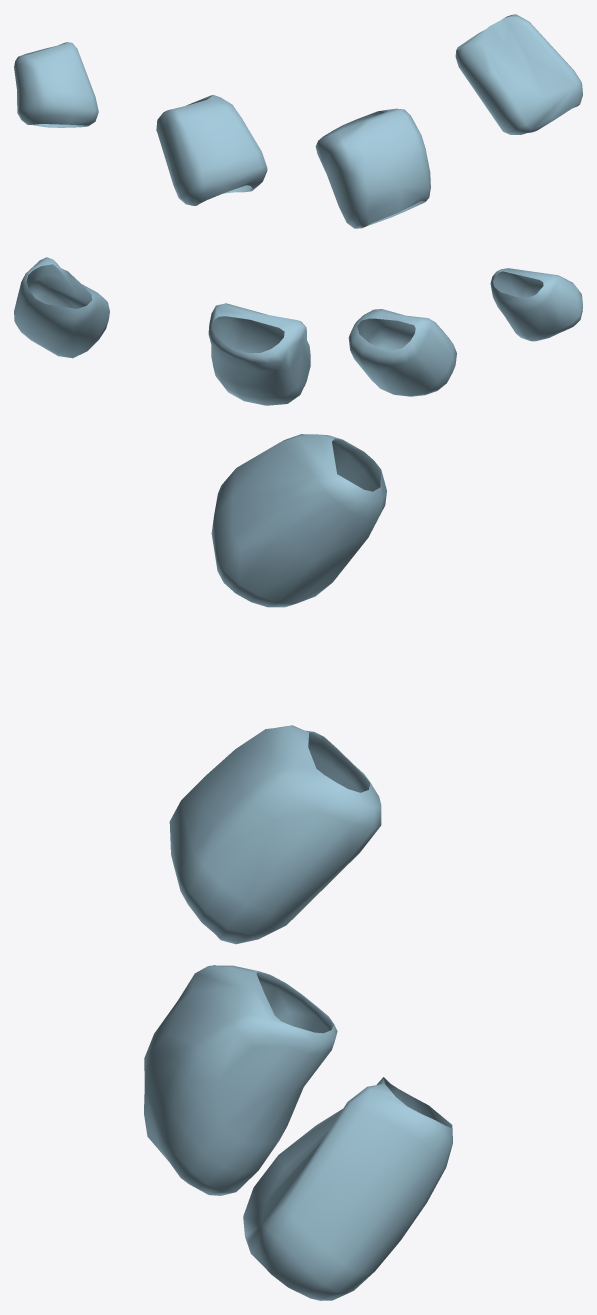
Rendered from articulacoes-articular-capsules-of-proximal-interphalangeal-joints-l.glb.
3 views of the same model, one above another, from view 1: azimuth 30°, elevation 25°; view 2: azimuth 150°, elevation 25°; view 3: azimuth 270°, elevation 25° (orthographic). The views are drawn at different scales.
Parts seen in each view (by area): view 1: Articular capsules of proximal interphalangeal joints.l; view 2: Articular capsules of proximal interphalangeal joints.l; view 3: Articular capsules of proximal interphalangeal joints.l.
Part boxes in pixels (x1=…): Articular capsules of proximal interphalangeal joints.l: x1=14, y1=14, x2=582, y2=228; Articular capsules of proximal interphalangeal joints.l: x1=14, y1=257, x2=582, y2=405; Articular capsules of proximal interphalangeal joints.l: x1=144, y1=434, x2=452, y2=1300.
Size of the model in its own units: 0.0887 by 0.0337 by 0.0215.
